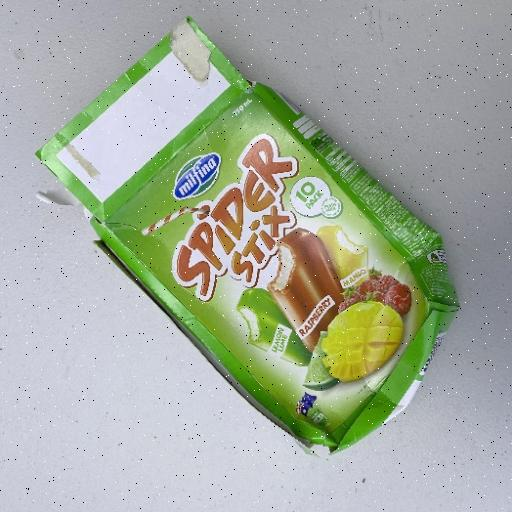Cardboard: (34, 15, 462, 457)
